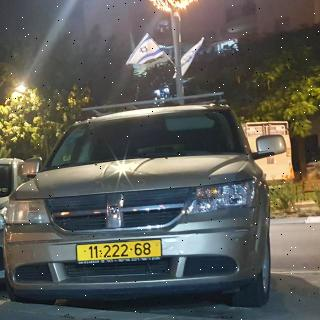LicensePlate: (77, 240, 162, 261)
